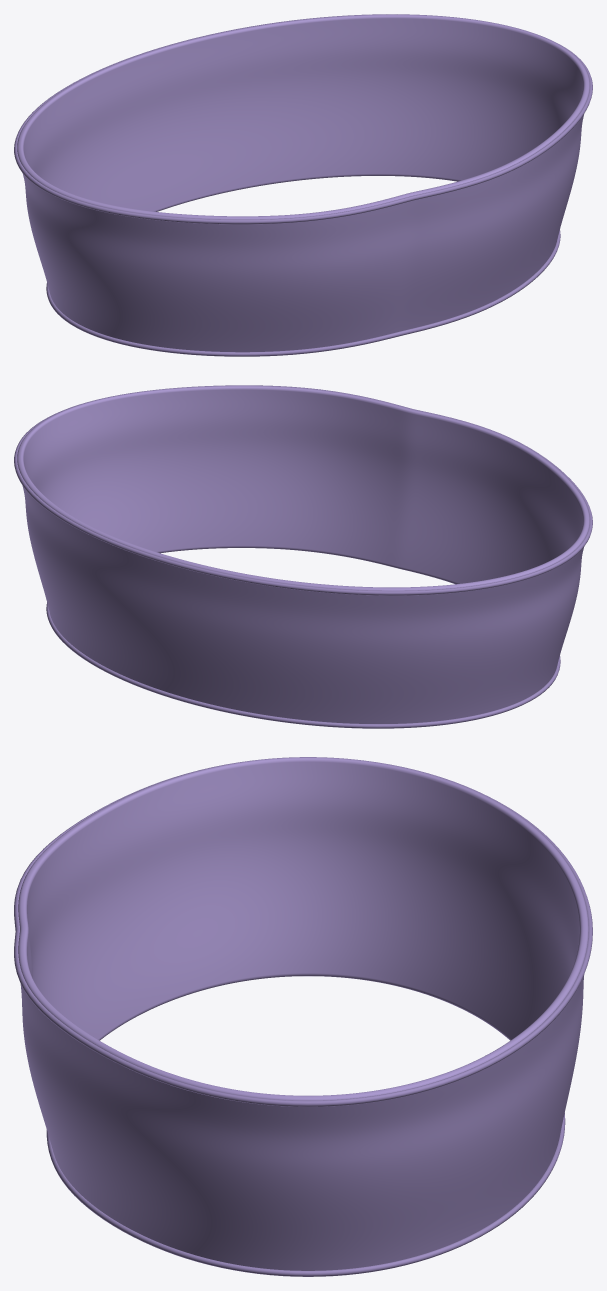
The model's file is Feminine-bandeau-top.glb.
3 views of the same model, one above another, from view 1: azimuth 30°, elevation 25°; view 2: azimuth 150°, elevation 25°; view 3: azimuth 270°, elevation 25° (orthographic). The views are drawn at different scales.
Visible parts, largest first — view 1: Clothing / Bandeau, Bandeau stitched edge.001 export, Bandeau stitched edge export; view 2: Clothing / Bandeau, Bandeau stitched edge.001 export, Bandeau stitched edge export; view 3: Clothing / Bandeau, Bandeau stitched edge.001 export, Bandeau stitched edge export.
Part boxes in pixels (x1=…): Clothing / Bandeau: x1=17, y1=14, x2=589, y2=352; Bandeau stitched edge.001 export: x1=14, y1=14, x2=592, y2=224; Bandeau stitched edge export: x1=46, y1=230, x2=560, y2=356; Clothing / Bandeau: x1=17, y1=385, x2=589, y2=723; Bandeau stitched edge.001 export: x1=14, y1=385, x2=592, y2=595; Bandeau stitched edge export: x1=46, y1=602, x2=560, y2=728; Clothing / Bandeau: x1=18, y1=757, x2=588, y2=1270; Bandeau stitched edge.001 export: x1=14, y1=761, x2=592, y2=1106; Bandeau stitched edge export: x1=46, y1=1113, x2=565, y2=1276.
Bounding box in the file's own units: 0.7315 × 0.1955 × 0.5169.
